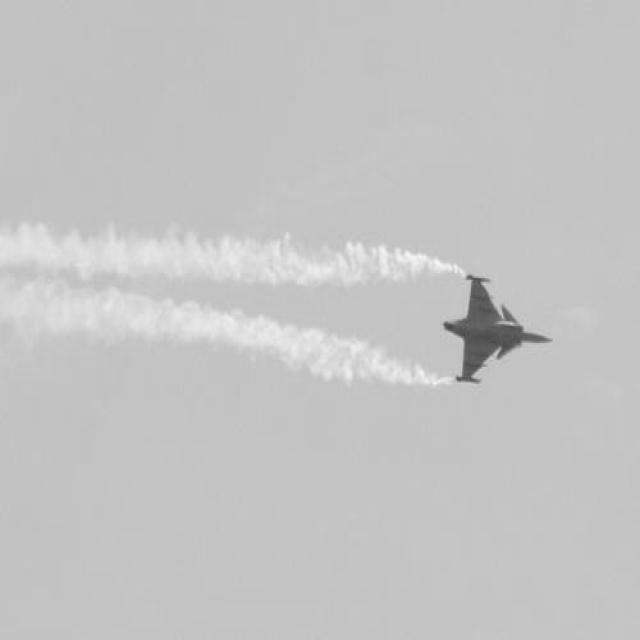aeroplane: (443, 273, 553, 382)
